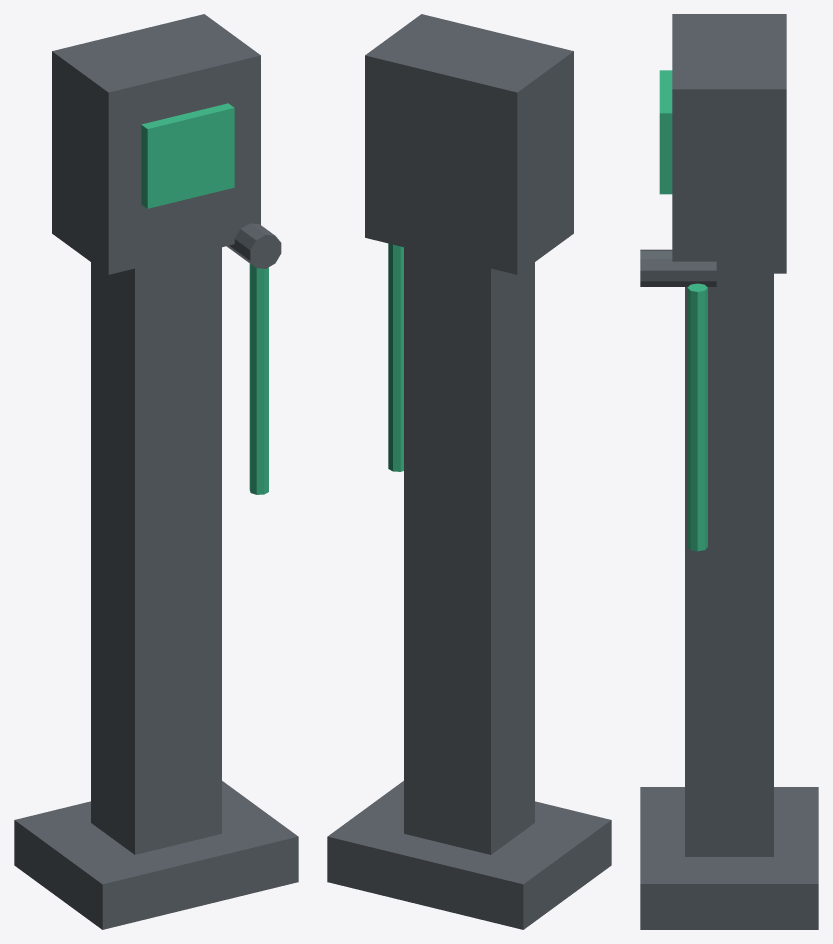
File: ev-charger.glb
3 renders of one model, left to right at view 1: azimuth 30°, elevation 25°; view 2: azimuth 150°, elevation 25°; view 3: azimuth 270°, elevation 25°, orthographic.
Parts seen in each view (by area): view 1: ev-charger_EvBody, ev-charger_EvAccent; view 2: ev-charger_EvBody, ev-charger_EvAccent; view 3: ev-charger_EvBody, ev-charger_EvAccent.
Boxes of the visible parts, x1=… form: ev-charger_EvBody: x1=14, y1=14, x2=298, y2=929; ev-charger_EvAccent: x1=141, y1=103, x2=268, y2=494; ev-charger_EvBody: x1=327, y1=14, x2=611, y2=929; ev-charger_EvAccent: x1=388, y1=243, x2=403, y2=471; ev-charger_EvBody: x1=640, y1=14, x2=818, y2=929; ev-charger_EvAccent: x1=659, y1=70, x2=707, y2=551.
Size of the model in its own units: 0.36 by 1.44 by 0.28.
